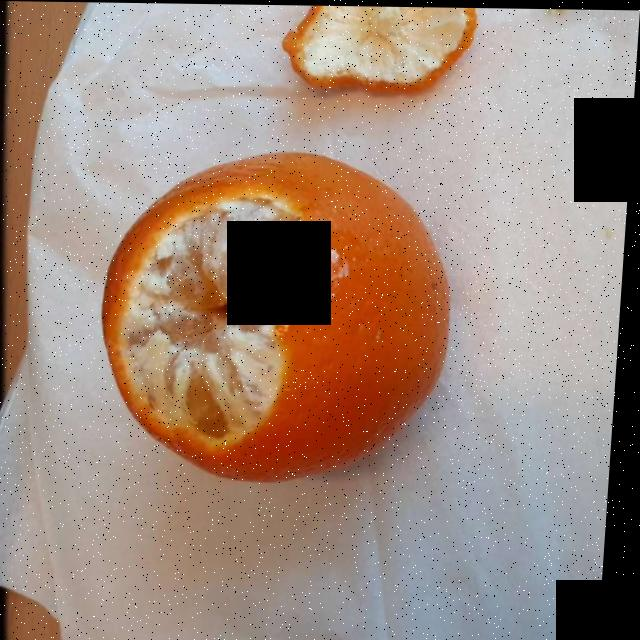mandarine: (109, 168, 450, 481)
